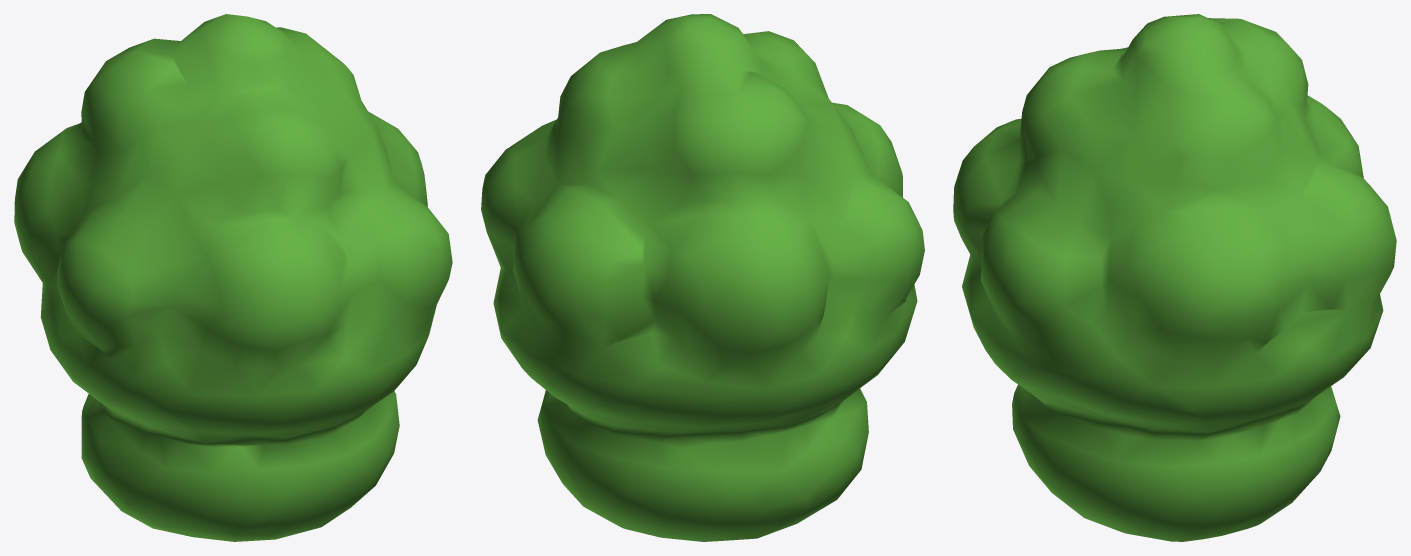
Rendered from bush_round.glb.
3 renders of one model, left to right at view 1: azimuth 30°, elevation 25°; view 2: azimuth 150°, elevation 25°; view 3: azimuth 270°, elevation 25°, orthographic.
Visible parts, largest first — view 1: bush_round; view 2: bush_round; view 3: bush_round.
Part boxes in pixels (<box>): bush_round: <box>14,14,452,541</box>; bush_round: <box>481,14,924,541</box>; bush_round: <box>953,14,1396,541</box>.
Bounding box in the file's own units: 1.49 × 1.75 × 1.49.
